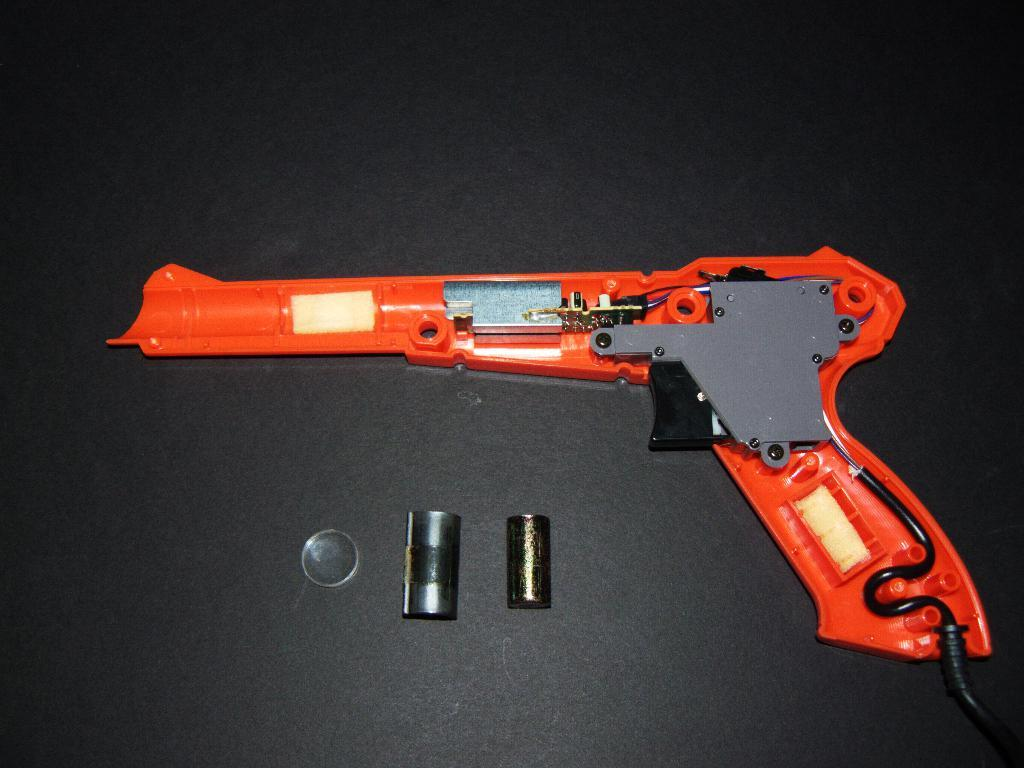Handgun: (106, 244, 992, 659)
